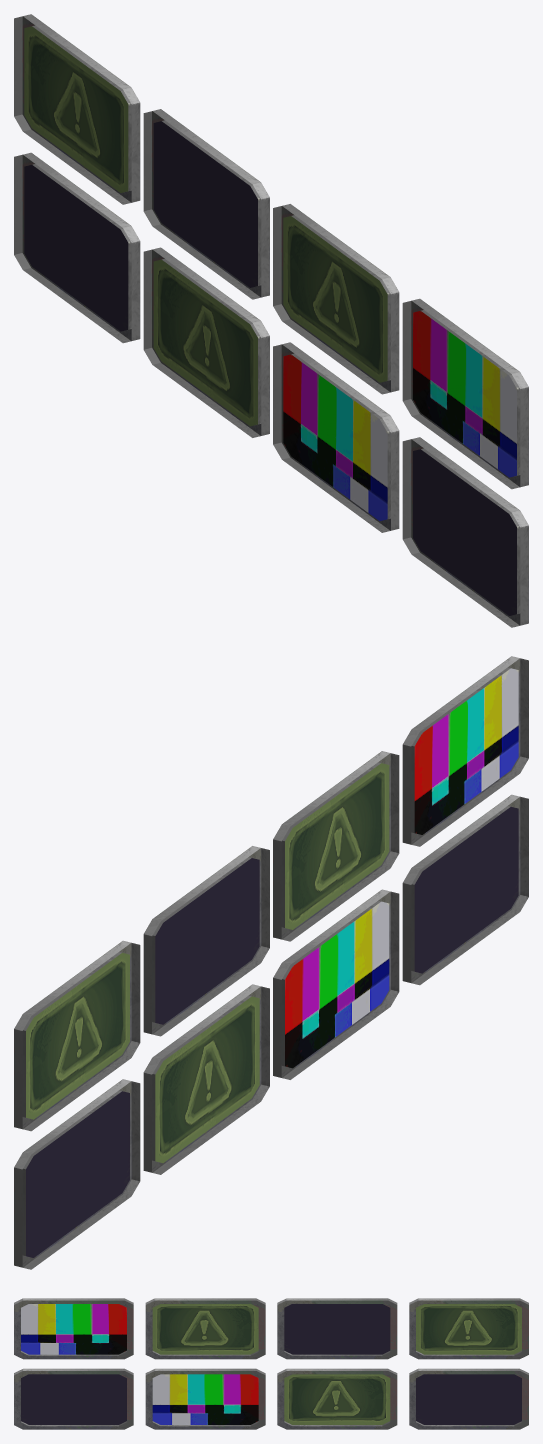
Rendered from PROP_102_SR_Screens.fbx.
The picture shows the model from 3 angles, top to bottom: view 1: azimuth 30°, elevation 25°; view 2: azimuth 150°, elevation 25°; view 3: azimuth 270°, elevation 25°; orthographic projection. The views are drawn at different scales.
Parts seen in each view (by area): view 1: Sr_Screens; view 2: Sr_Screens; view 3: Sr_Screens.
Part boxes in pixels (x1=…): Sr_Screens: x1=14, y1=14, x2=528, y2=627; Sr_Screens: x1=14, y1=656, x2=528, y2=1269; Sr_Screens: x1=14, y1=1298, x2=528, y2=1429.
Size of the model in its own units: 0.0456 by 1.29 by 4.67.
Materials: 1 (1 with a texture image).
